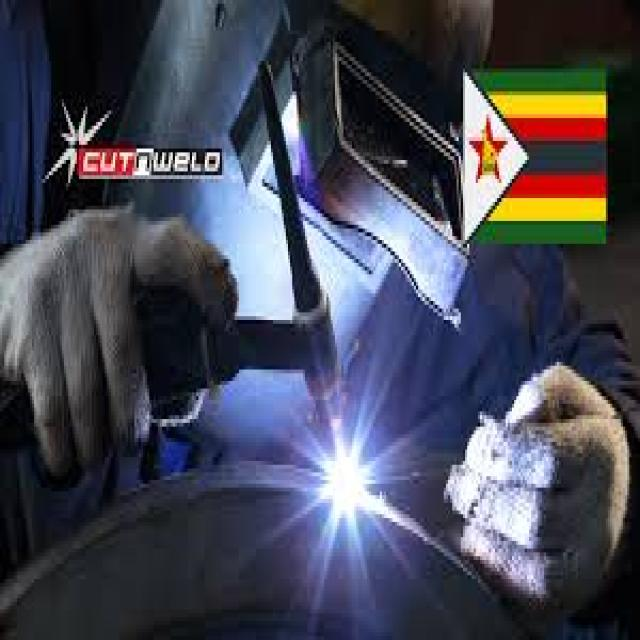welding: (330, 456, 367, 512)
